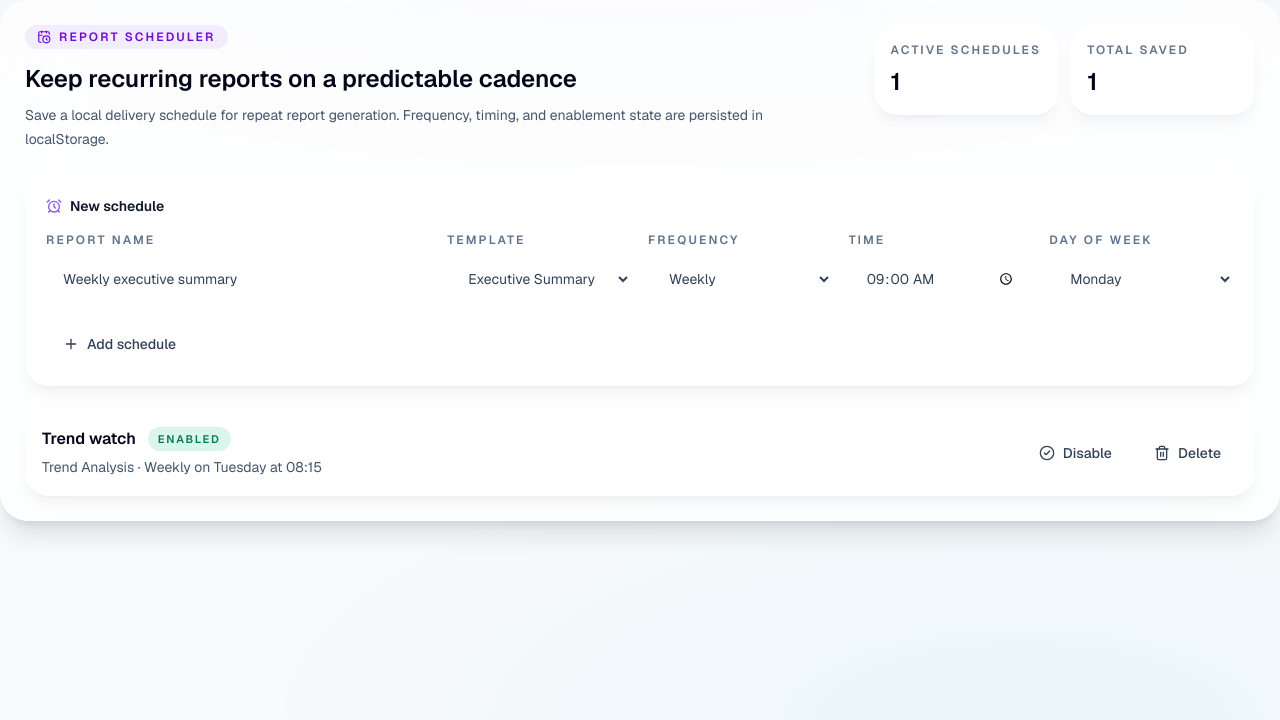
Scenario: ReportScheduler › toggles and deletes a saved schedule
This screenshot has width=1280, height=720.
Click the button "Disable": (1075, 453) [1022,432,1129,474]
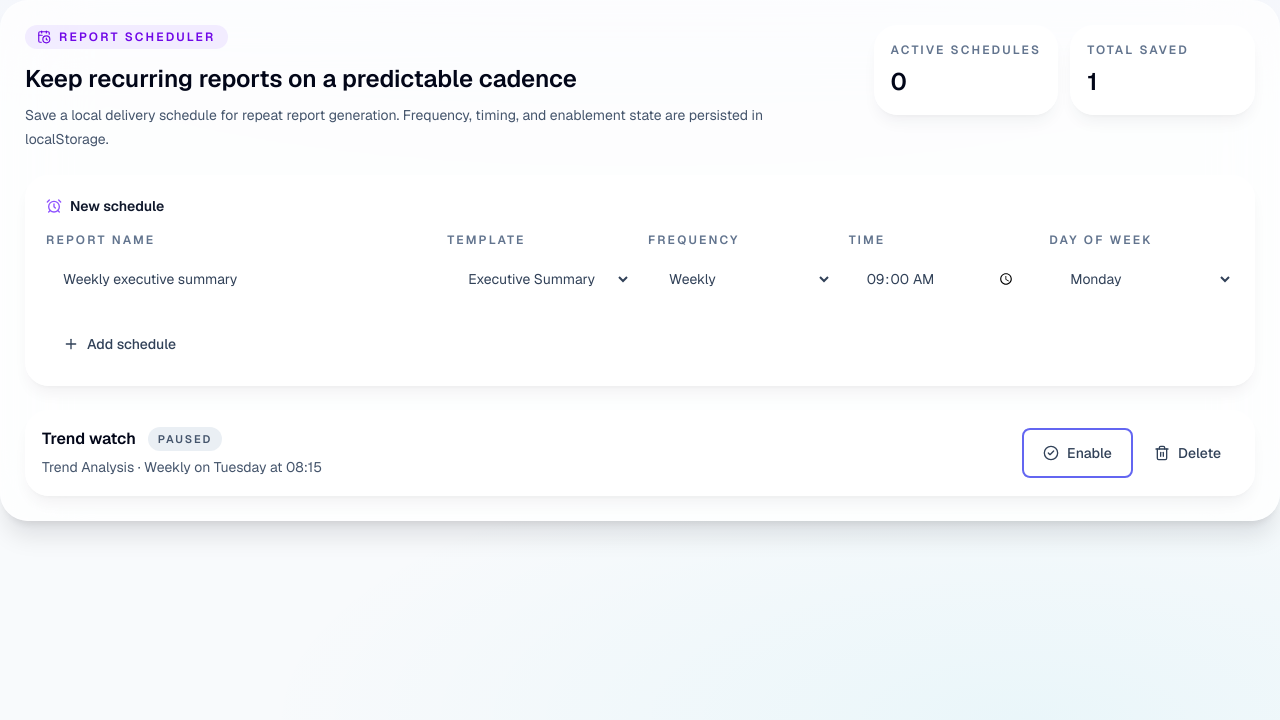
Result: the text "Paused" is shown at [148,427,222,451]
Click the button "Delete": (1187, 453) [1137,432,1238,474]
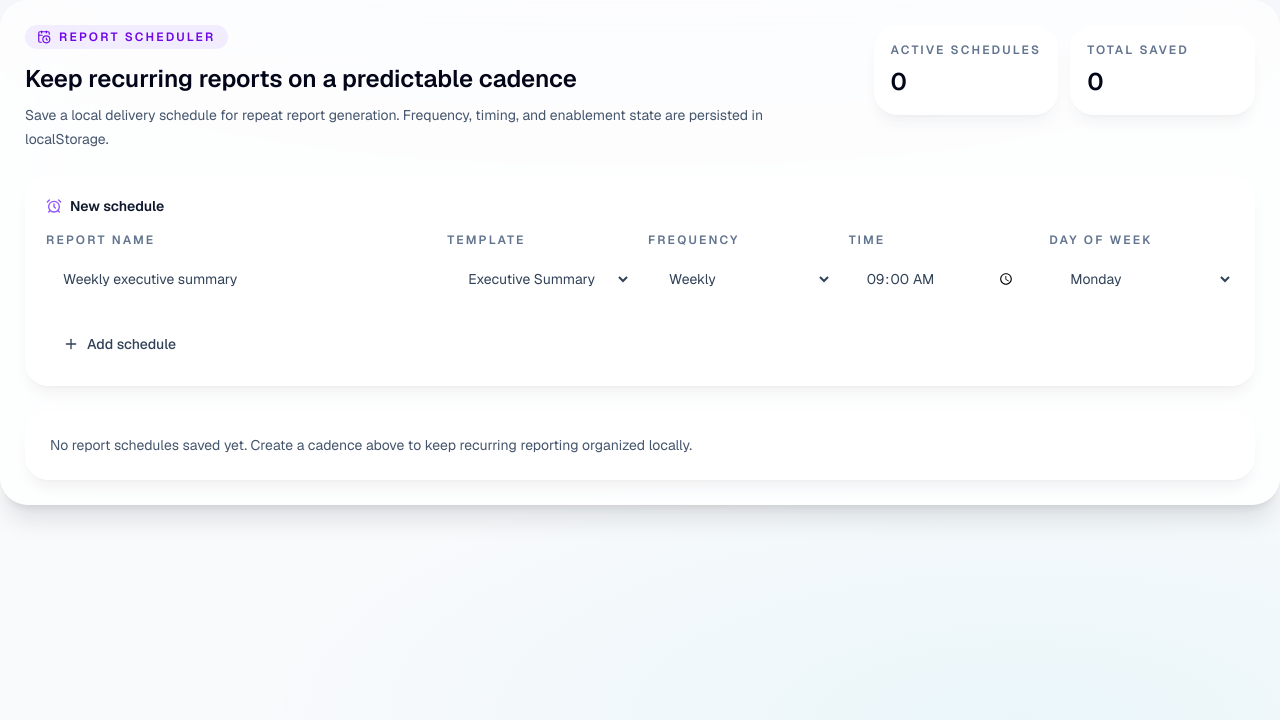
Result: the text "Trend watch" is gone
